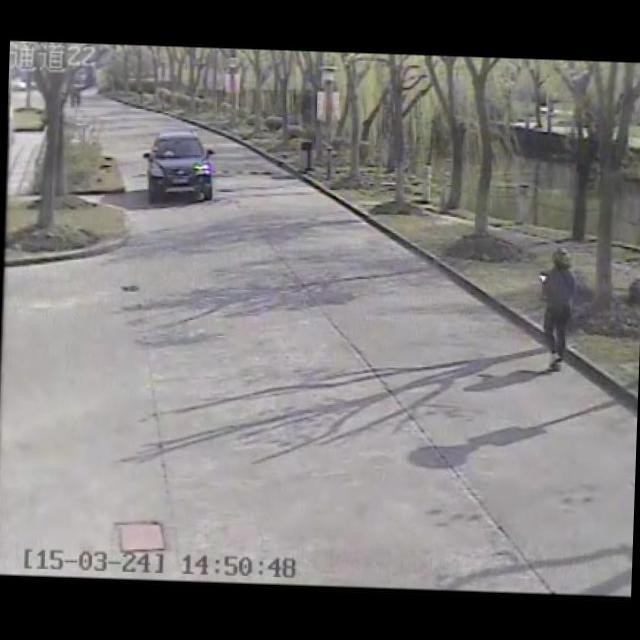person: (532, 240, 580, 376)
